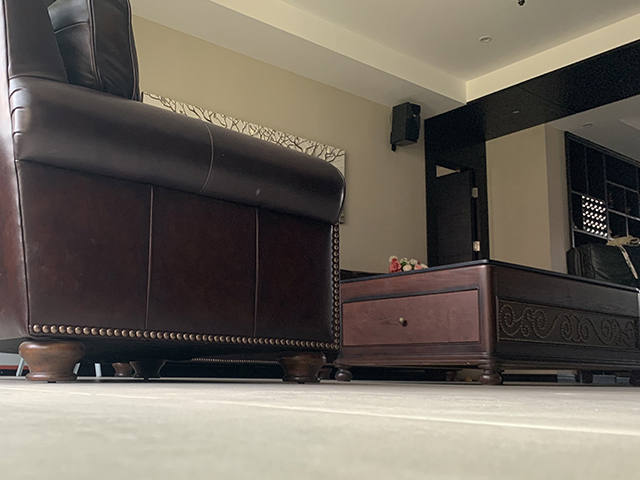sofa: (1, 1, 348, 385)
table: (334, 257, 640, 385)
